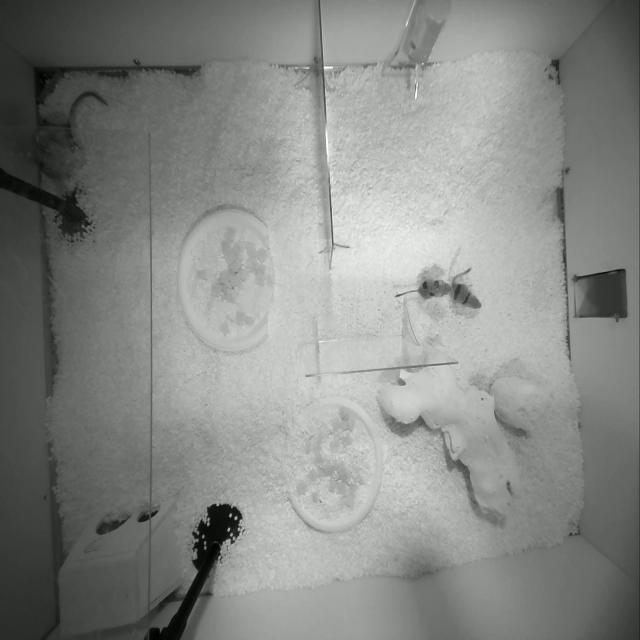adult_back: (34, 92, 107, 193)
pup_h_stripe: (450, 268, 481, 308)
pup_spotted: (396, 278, 451, 299)
